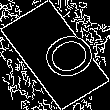O_SW: (18, 23, 92, 87)
